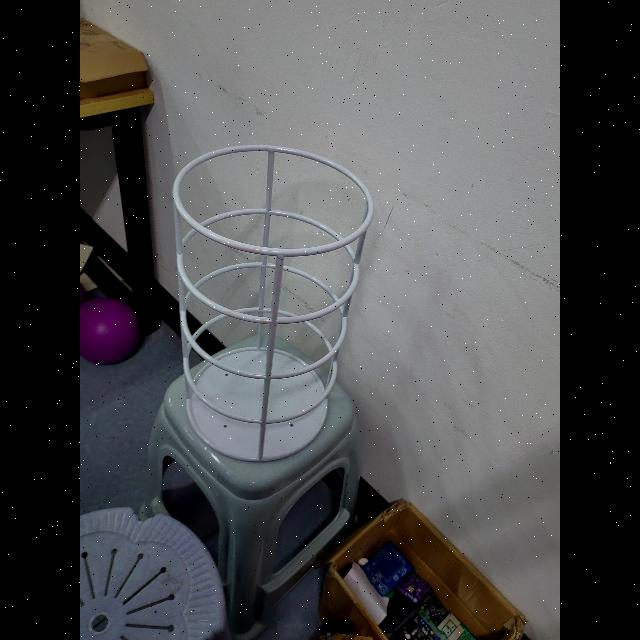S: (168, 139, 378, 467)
